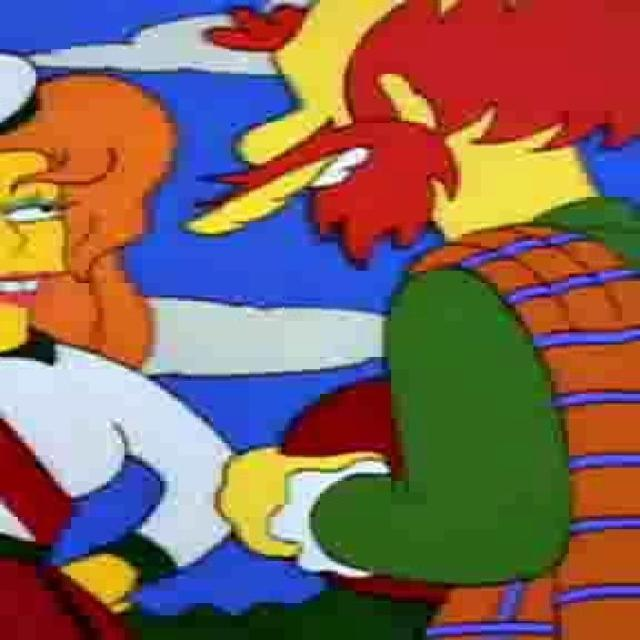Groundskeeper Willie: (175, 0, 640, 277)
